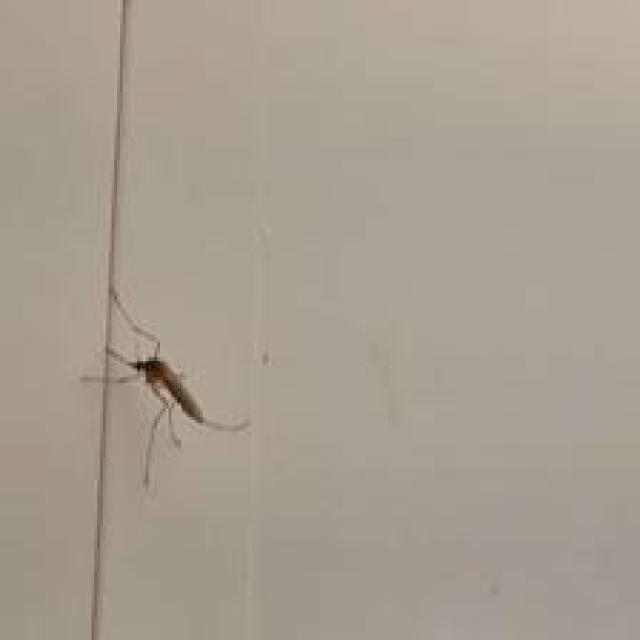Culex: (80, 286, 251, 488)
